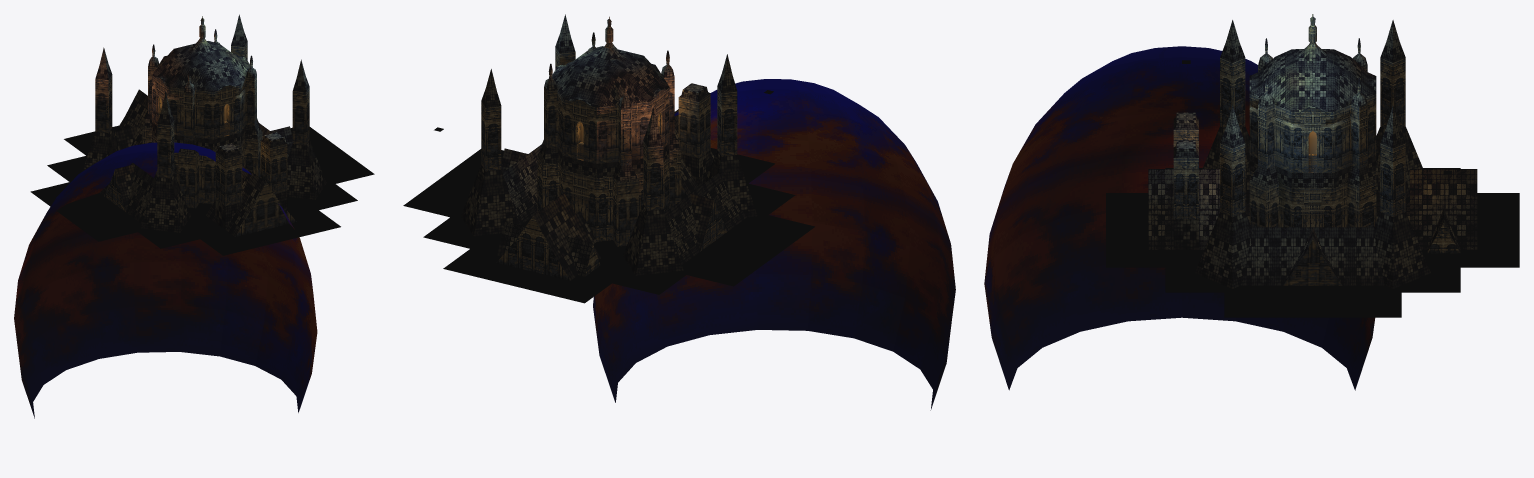
File: MAP101.gltf
3 views of the same model, side by side, from view 1: azimuth 30°, elevation 25°; view 2: azimuth 150°, elevation 25°; view 3: azimuth 270°, elevation 25° (orthographic). The views are drawn at different scales.
Bounding box in the file's own units: 812 × 723 × 812.
Materials: 19 (19 with a texture image).
